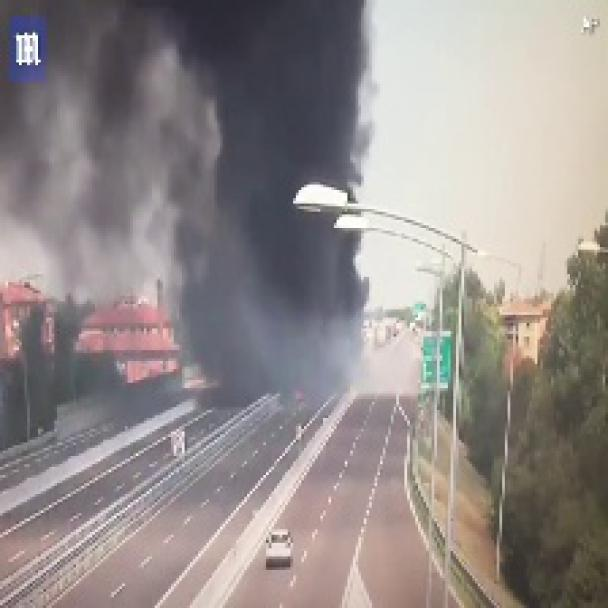smoke: (0, 0, 411, 450)
